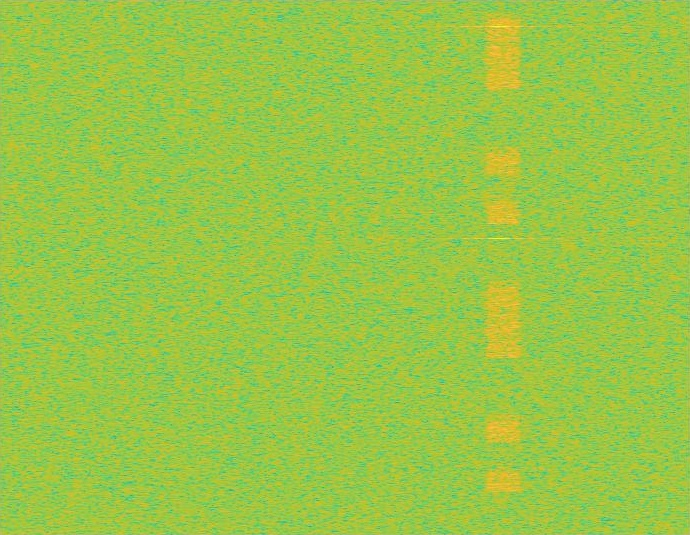LTE: (486, 0, 520, 534)
Radar: (492, 0, 506, 534)
